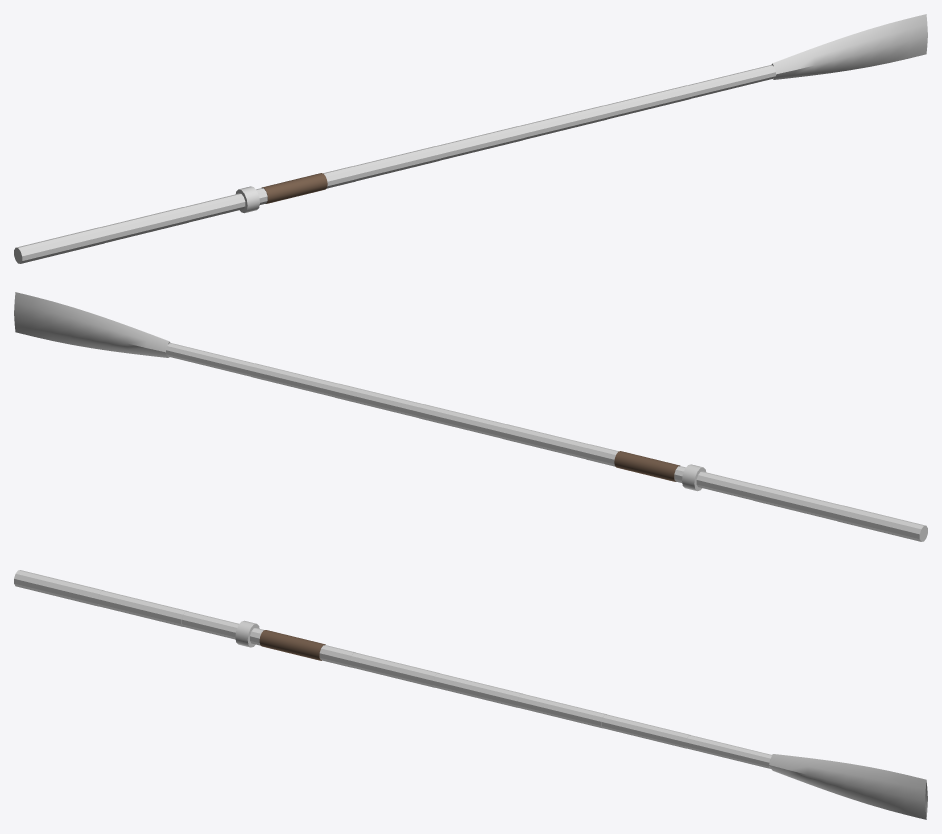
Rendered from Oar_S4.glb.
3 views of the same model, one above another, from view 1: azimuth 30°, elevation 25°; view 2: azimuth 150°, elevation 25°; view 3: azimuth 330°, elevation 25° (orthographic).
Parts seen in each view (by area): view 1: Oar_S4; view 2: Oar_S4; view 3: Oar_S4.
Part boxes in pixels (x1,y1,x2,y2): Oar_S4: (14, 14, 927, 263); Oar_S4: (14, 292, 927, 541); Oar_S4: (14, 570, 927, 819).
Size of the model in its own units: 3.66 by 0.155 by 0.086.
